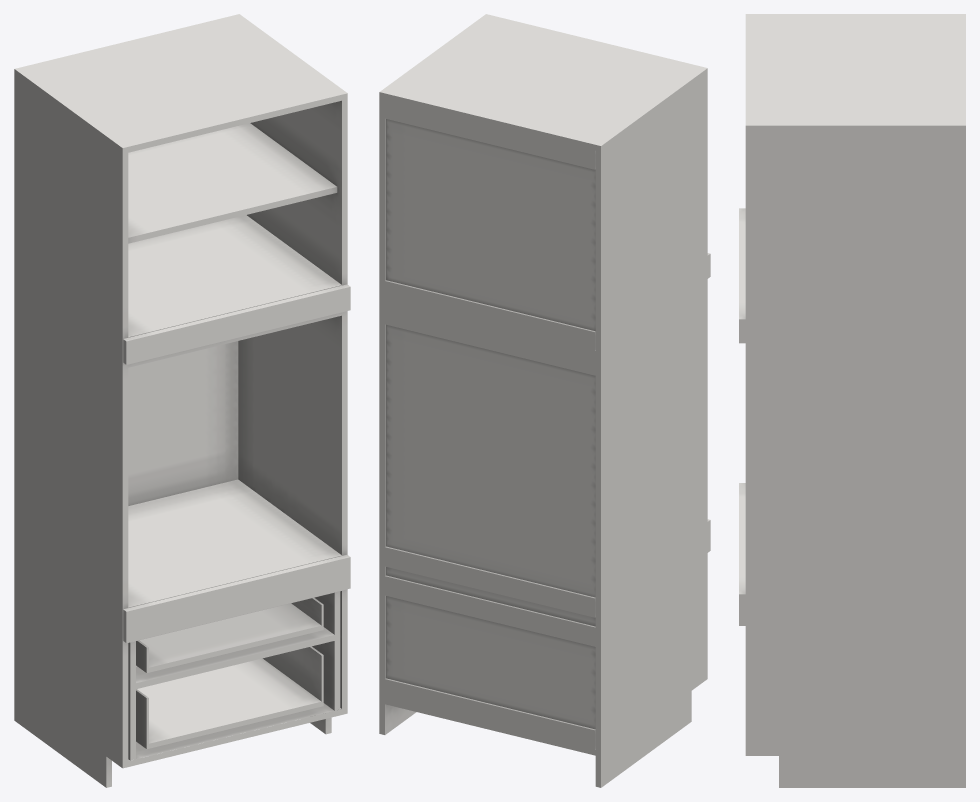
File: tall-wall-oven-2-drawer-doors-off.glb
3 renders of one model, left to right at view 1: azimuth 30°, elevation 25°; view 2: azimuth 150°, elevation 25°; view 3: azimuth 270°, elevation 25°, orthographic. The views are drawn at different scales.
Parts seen in each view (by area): view 1: part_0, part_1; view 2: part_0; view 3: part_0.
Part boxes in pixels (x1,y1,x2,y2): part_0: (14, 14, 350, 787); part_1: (136, 598, 323, 748); part_0: (379, 14, 710, 787); part_0: (739, 14, 965, 787).
Size of the model in its own units: 0.7621 by 2.11 by 0.6543.
Materials: 2 (1 with a texture image).
